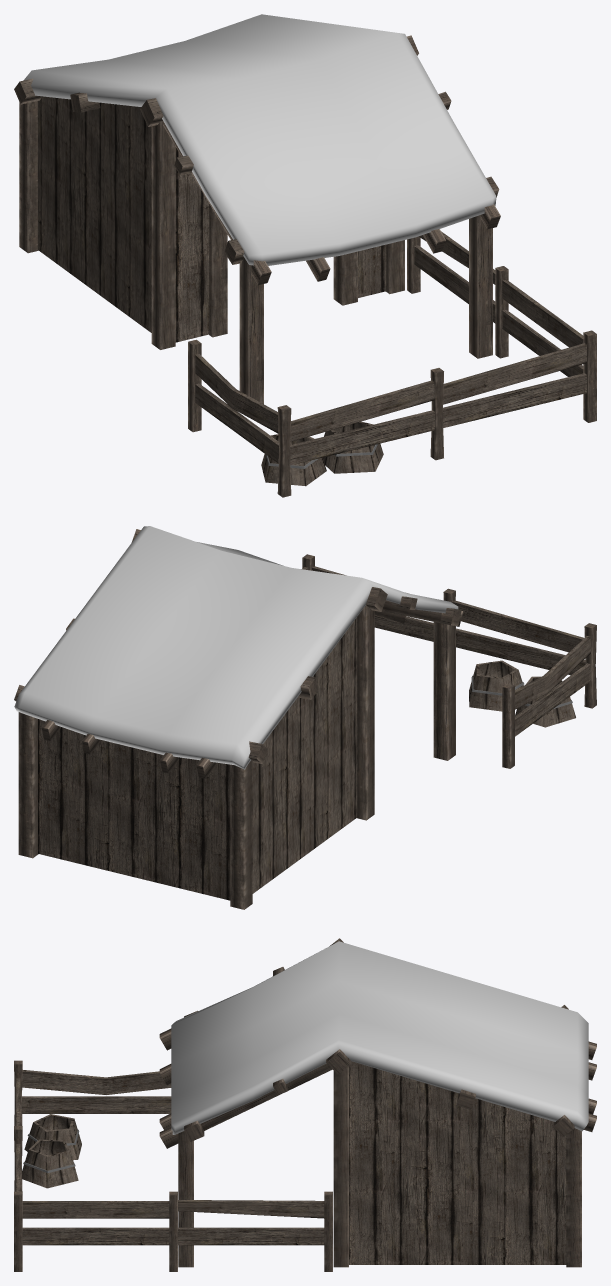
File: Dairy.fbx
3 views of the same model, one above another, from view 1: azimuth 30°, elevation 25°; view 2: azimuth 150°, elevation 25°; view 3: azimuth 270°, elevation 25° (orthographic). The views are drawn at different scales.
Parts seen in each view (by area): view 1: dairy; view 2: dairy; view 3: dairy.
Boxes of the visible parts, box(x1,y1,x2,y2) form: dairy: box(14, 14, 596, 497); dairy: box(14, 526, 596, 909); dairy: box(14, 938, 596, 1271).
Size of the model in its own units: 414 by 321 by 751.
